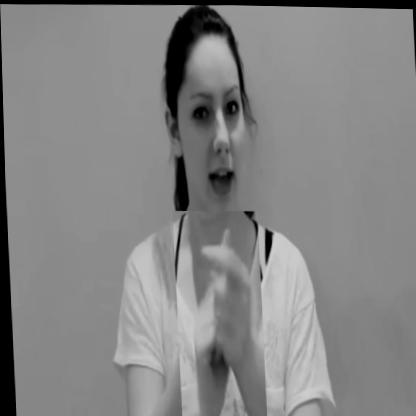HowAreYou: (171, 208, 265, 416)
